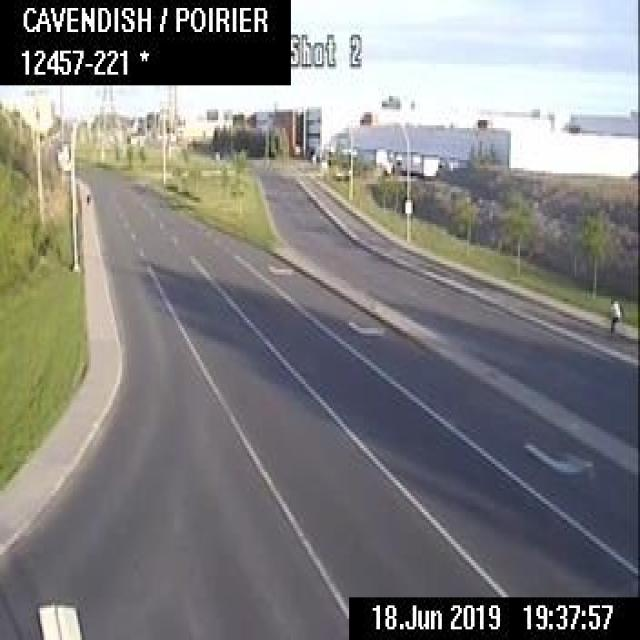cyclist: (598, 296, 626, 335)
